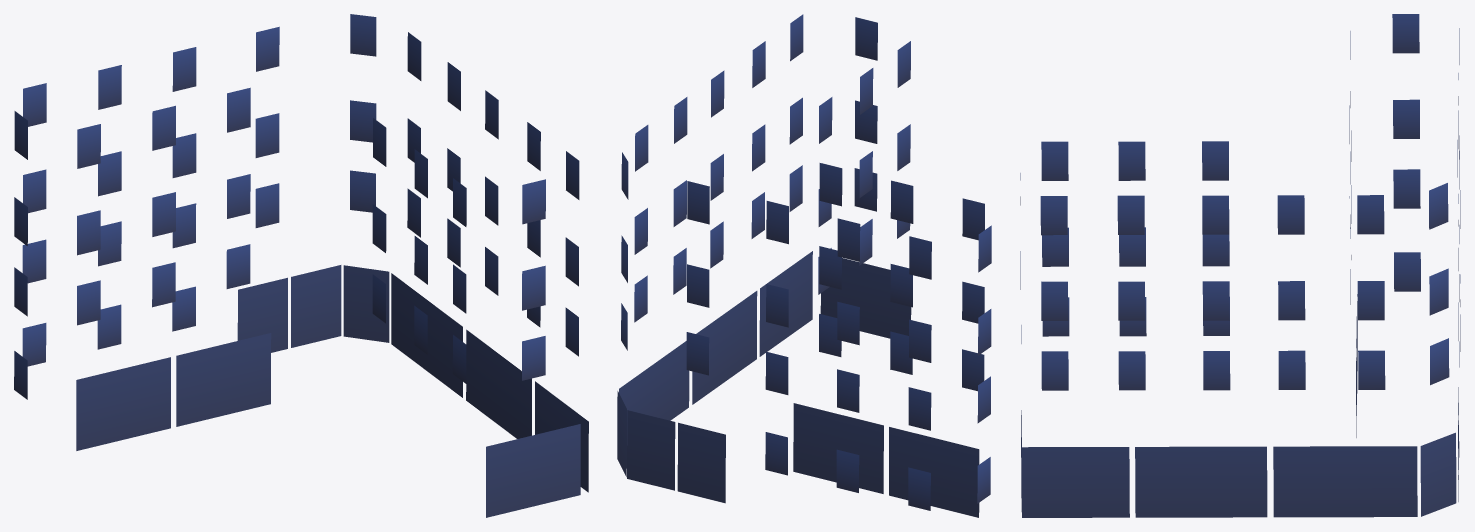
The model's file is windowRefl.122.fbx.
3 views of the same model, side by side, from view 1: azimuth 30°, elevation 25°; view 2: azimuth 150°, elevation 25°; view 3: azimuth 270°, elevation 25° (orthographic). The views are drawn at different scales.
Parts seen in each view (by area): view 1: windowRefl.122; view 2: windowRefl.122; view 3: windowRefl.122.
Part boxes in pixels (x1,y1,x2,y2): windowRefl.122: (14, 14, 588, 517); windowRefl.122: (617, 14, 991, 517); windowRefl.122: (1020, 14, 1460, 517).
Size of the model in its own units: 2006 by 1956 by 1628.
